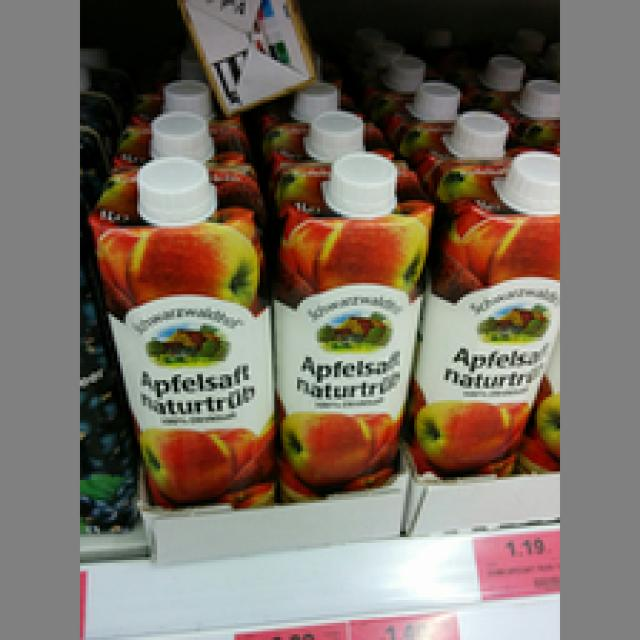groceries: (89, 154, 277, 503), (268, 149, 432, 497), (412, 148, 557, 468)
